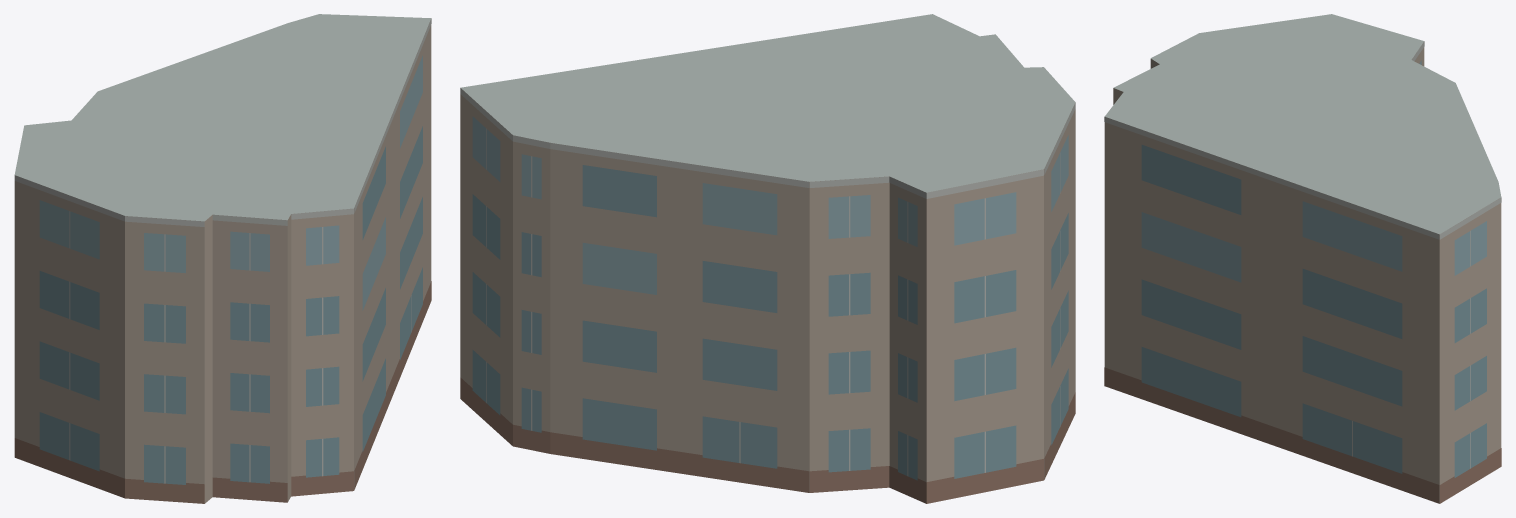
The model's file is survey-upis-32780382.glb.
3 views of the same model, side by side, from view 1: azimuth 30°, elevation 25°; view 2: azimuth 150°, elevation 25°; view 3: azimuth 270°, elevation 25° (orthographic). The views are drawn at different scales.
Visible parts, largest first — view 1: survey-upis-32780382.tmp; view 2: survey-upis-32780382.tmp; view 3: survey-upis-32780382.tmp.
Part boxes in pixels (left/top/right/bottom): survey-upis-32780382.tmp: left=14, top=14, right=431, bottom=503; survey-upis-32780382.tmp: left=460, top=14, right=1075, bottom=503; survey-upis-32780382.tmp: left=1104, top=14, right=1501, bottom=503.
Bounding box in the file's own units: 21.05 × 12 × 16.02.
